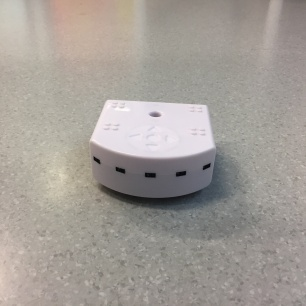thymio: (88, 95, 219, 199)
